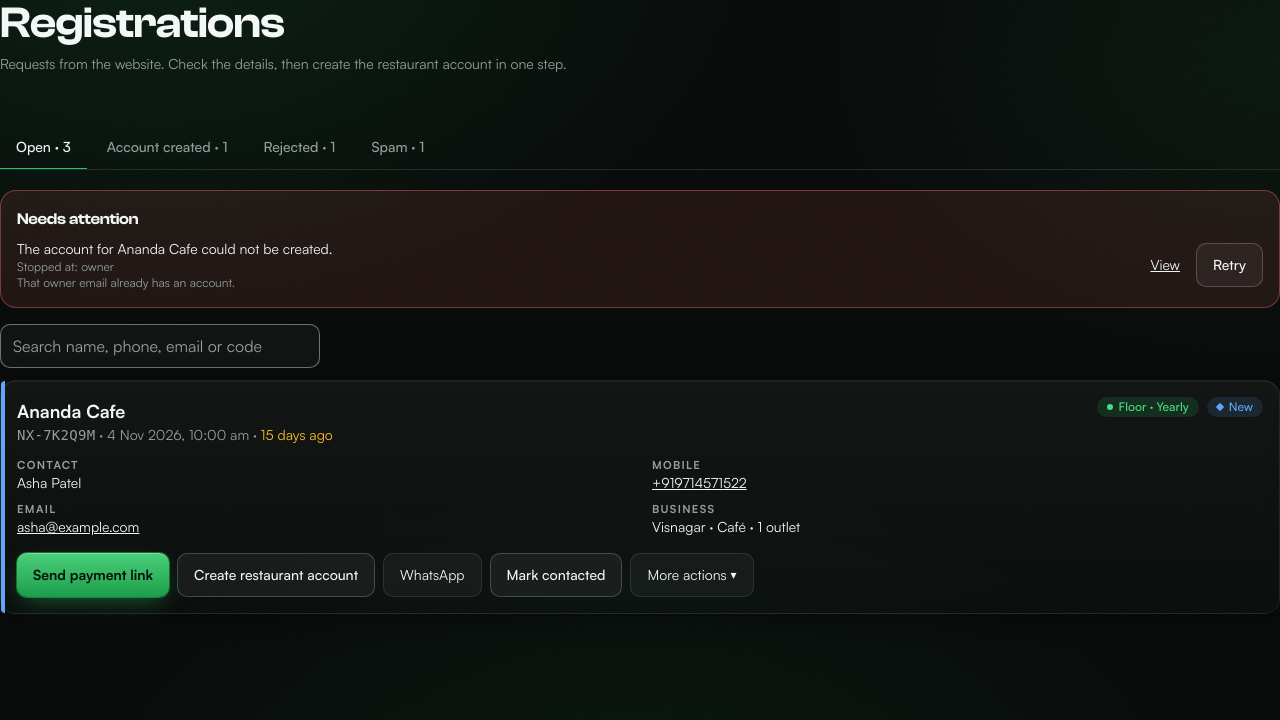
Test case: Registrations: needs attention › lists a failed account job with its safe reason, and Retry opens the account dialog (never a blind retry)
This screenshot has width=1280, height=720.
Expected: the text "The account for Ananda Cafe could not be created." is shown, [17,240,332,257]
Expected: the text "That owner email already has an account." is shown, [17,275,235,290]
Click the button "Retry".
click(1230, 265)  # box [1196,243,1263,287]
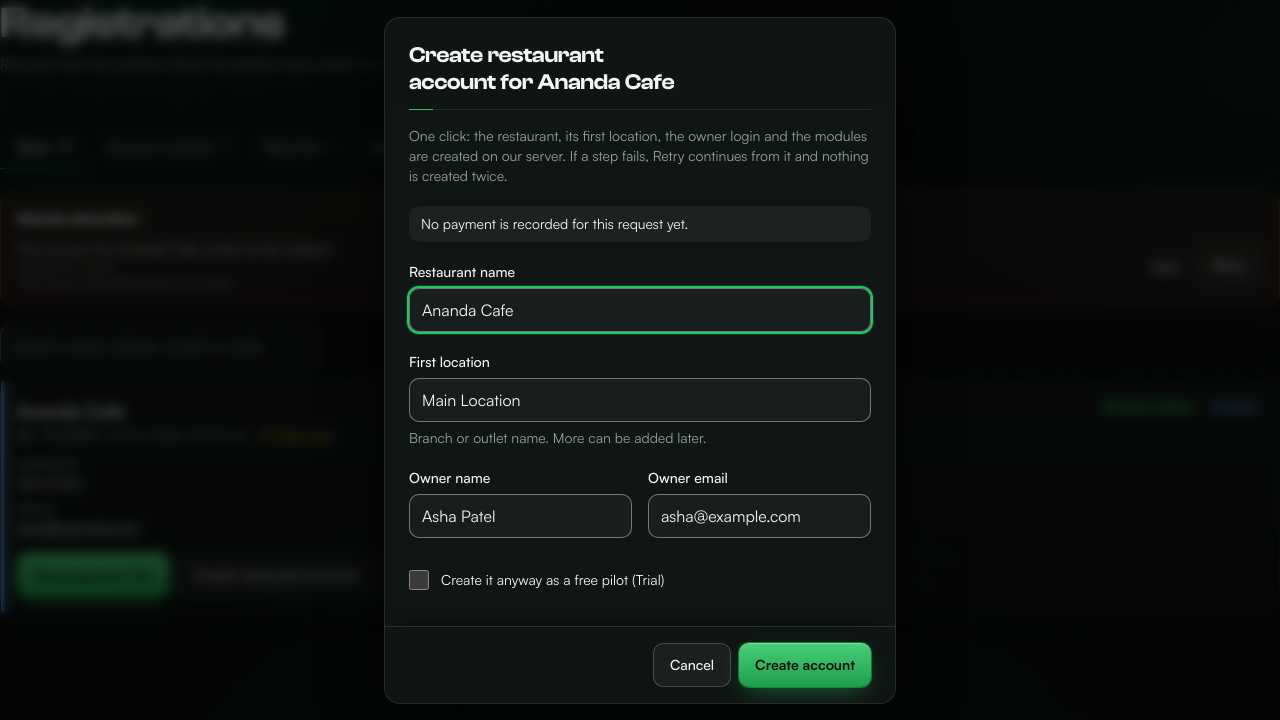
Result: the field showing "asha@example.com" is shown at [648,494,871,538]
